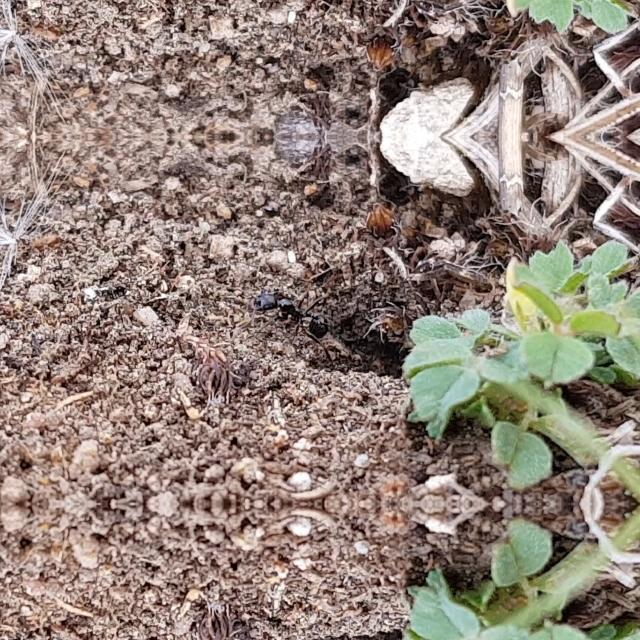Apheanogaster: (240, 284, 344, 342)
